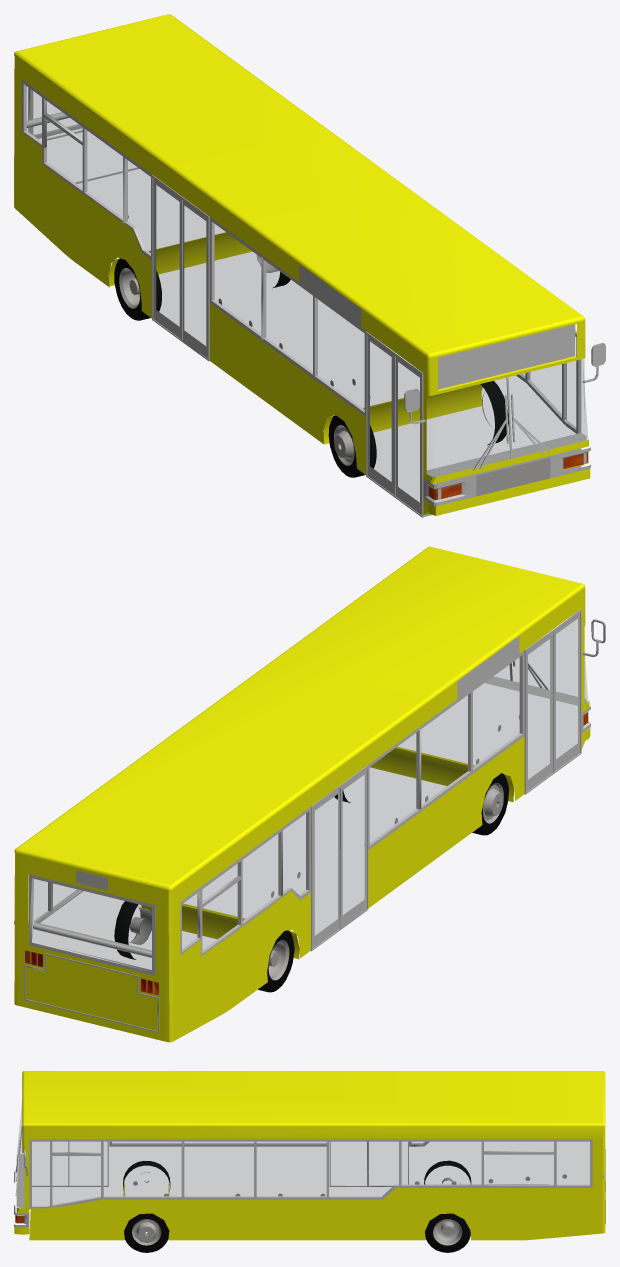
Rendered from gongjiaoche.gltf.
The picture shows the model from 3 angles, top to bottom: view 1: azimuth 30°, elevation 25°; view 2: azimuth 150°, elevation 25°; view 3: azimuth 270°, elevation 25°; orthographic projection. The views are drawn at different scales.
Parts seen in each view (by area): view 1: node_Bus - EU Standard_bodydetachobj1_-144112, node_Bus - EU Standard_bodydetachobj4_-144118, node_Bus - EU Standard_bodydetachobj2_-144114, node_Bus - EU Standard_bodydetachobj3_-144116, node_Bus - EU Standard_bodydetachobj9_-144128, node_Bus - EU Standard_bodydetachobj11_-144132, node_Bus - EU Standard_bodydetachobj10_-144130; view 2: node_Bus - EU Standard_bodydetachobj1_-144112, node_Bus - EU Standard_bodydetachobj4_-144118, node_Bus - EU Standard_bodydetachobj2_-144114, node_Bus - EU Standard_bodydetachobj3_-144116, node_Bus - EU Standard_bodydetachobj9_-144128, node_Bus - EU Standard_bodydetachobj10_-144130; view 3: node_Bus - EU Standard_bodydetachobj1_-144112, node_Bus - EU Standard_bodydetachobj4_-144118, node_Bus - EU Standard_bodydetachobj2_-144114, node_Bus - EU Standard_bodydetachobj9_-144128, node_Bus - EU Standard_bodydetachobj10_-144130.
Part boxes in pixels (x1,y1,x2,y2): node_Bus - EU Standard_bodydetachobj1_-144112: (14,14,590,515); node_Bus - EU Standard_bodydetachobj4_-144118: (27,87,587,501); node_Bus - EU Standard_bodydetachobj2_-144114: (21,79,605,517); node_Bus - EU Standard_bodydetachobj3_-144116: (153,179,590,514); node_Bus - EU Standard_bodydetachobj9_-144128: (114,258,508,477); node_Bus - EU Standard_bodydetachobj11_-144132: (476,458,550,496); node_Bus - EU Standard_bodydetachobj10_-144130: (119,255,492,465); node_Bus - EU Standard_bodydetachobj1_-144112: (14,546,590,1042); node_Bus - EU Standard_bodydetachobj4_-144118: (34,619,587,969); node_Bus - EU Standard_bodydetachobj2_-144114: (14,609,605,1032); node_Bus - EU Standard_bodydetachobj3_-144116: (76,613,590,948); node_Bus - EU Standard_bodydetachobj9_-144128: (114,773,509,992); node_Bus - EU Standard_bodydetachobj10_-144130: (129,783,503,980); node_Bus - EU Standard_bodydetachobj1_-144112: (14,1071,605,1240); node_Bus - EU Standard_bodydetachobj4_-144118: (17,1110,589,1207); node_Bus - EU Standard_bodydetachobj2_-144114: (15,1126,605,1224); node_Bus - EU Standard_bodydetachobj9_-144128: (123,1160,471,1252); node_Bus - EU Standard_bodydetachobj10_-144130: (132,1172,462,1245).
Bounding box in the file's own units: 3.18 × 2.83 × 11.58.
